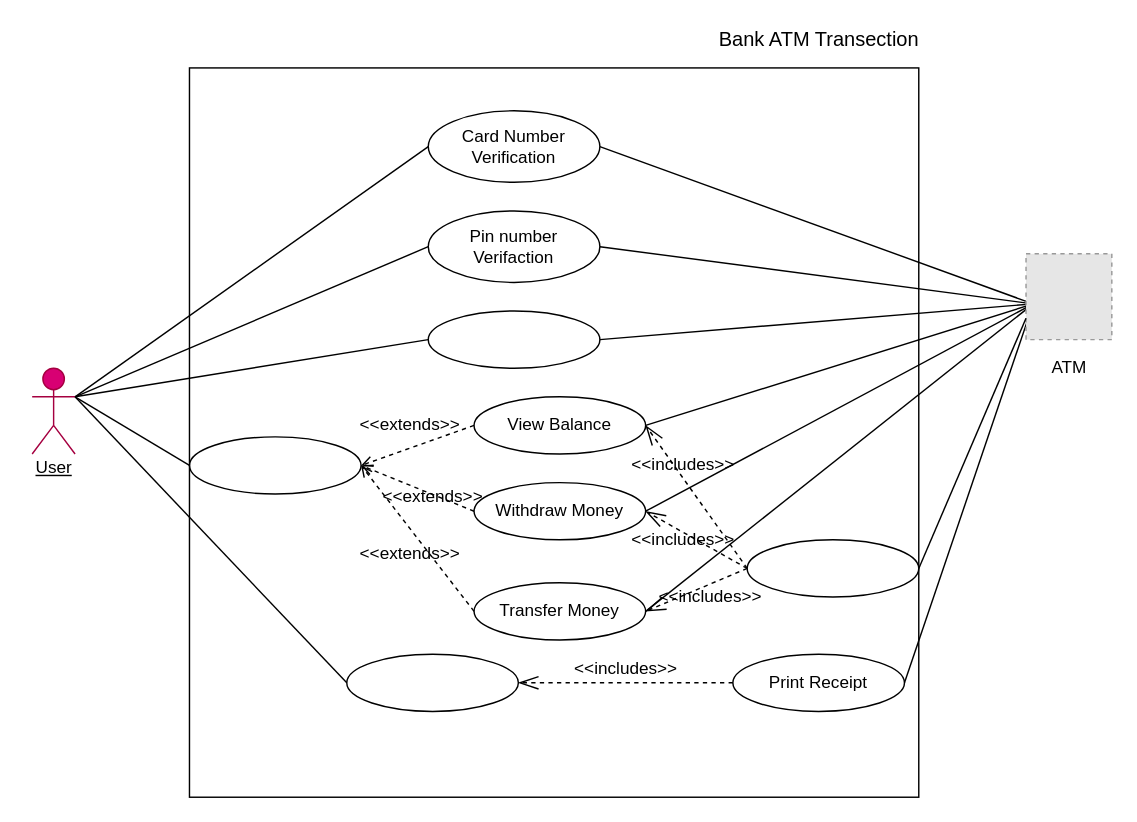
The diagram is 1137 pixels wide and 822 high, and some of its shapes have lost their labels. Grey dashed boxes stand in for pictures. Each missing label, with the centre of its shape:
"Display Message" belongs at pixel 832 567.
"Login" belongs at pixel 513 339.
"Logout" belongs at pixel 431 682.
"Select Transection" belongs at pixel 274 464.
